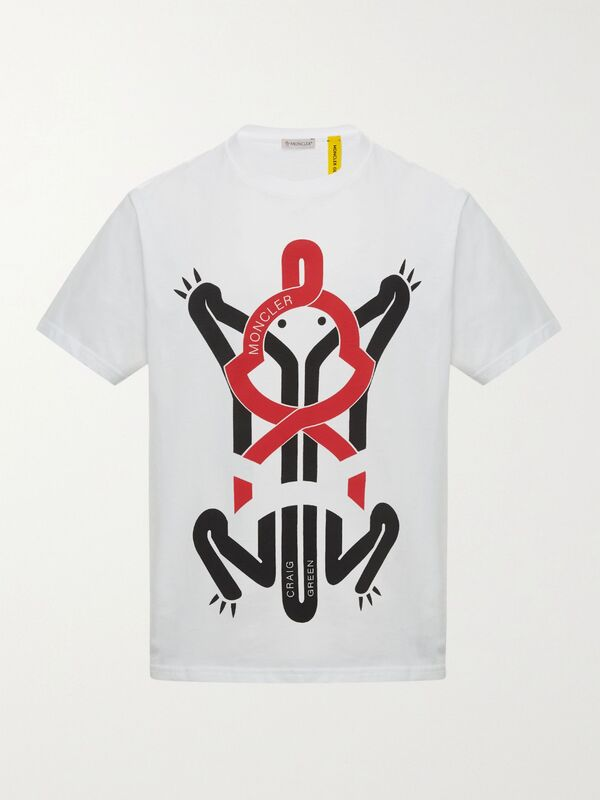tshirt: (26, 117, 568, 687)
